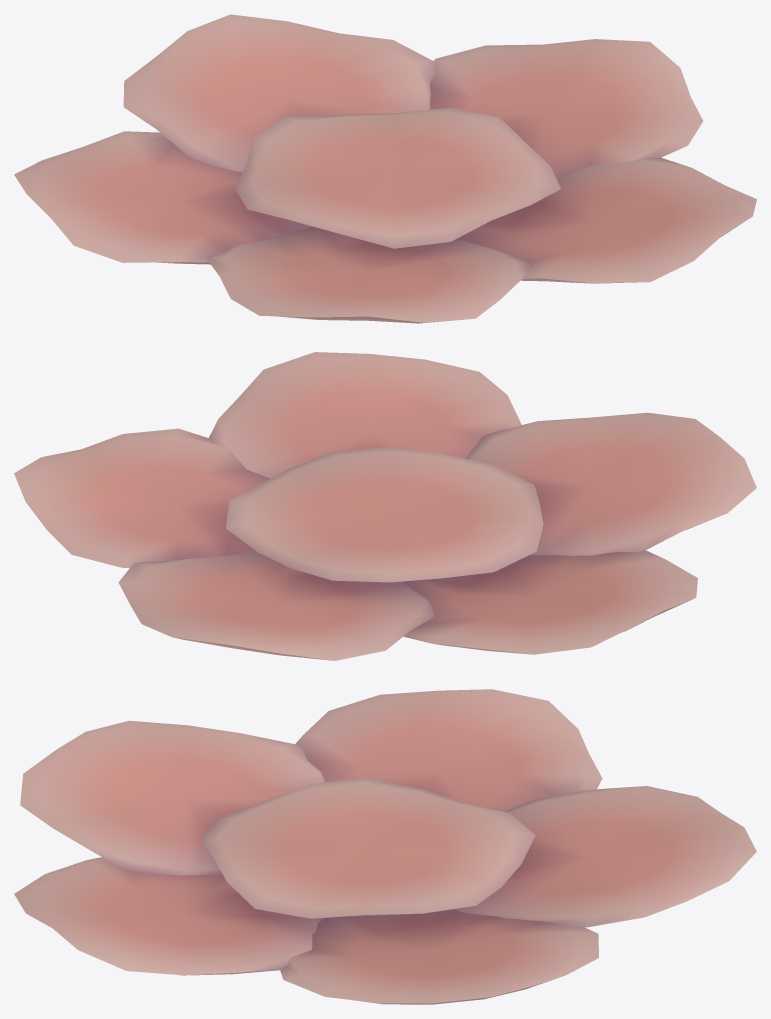
The model's file is ginger.glb.
3 renders of one model, top to bottom at view 1: azimuth 30°, elevation 25°; view 2: azimuth 150°, elevation 25°; view 3: azimuth 270°, elevation 25°, orthographic. The views are drawn at different scales.
Visible parts, largest first — view 1: body; view 2: body; view 3: body.
Boxes of the visible parts, x1,y1,x2,y2 form: body: (14, 14, 756, 323); body: (14, 352, 756, 660); body: (14, 689, 756, 1004).
Bounding box in the file's own units: 0.7658 × 0.05 × 0.7654.
